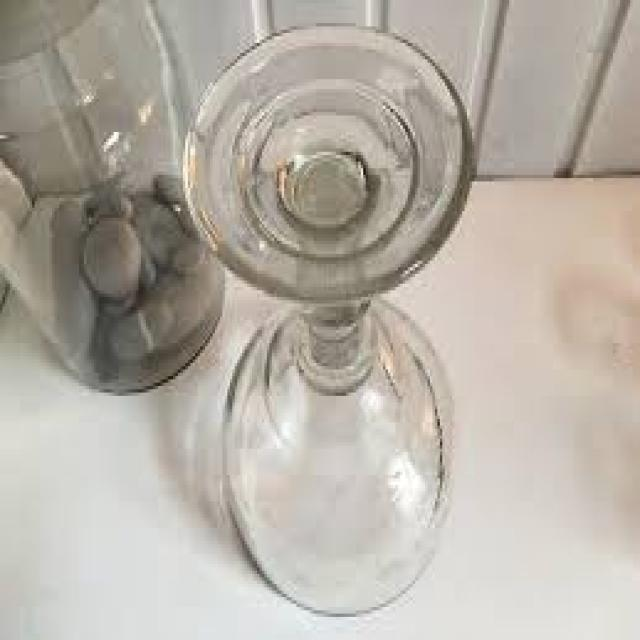glass: (0, 0, 472, 610)
